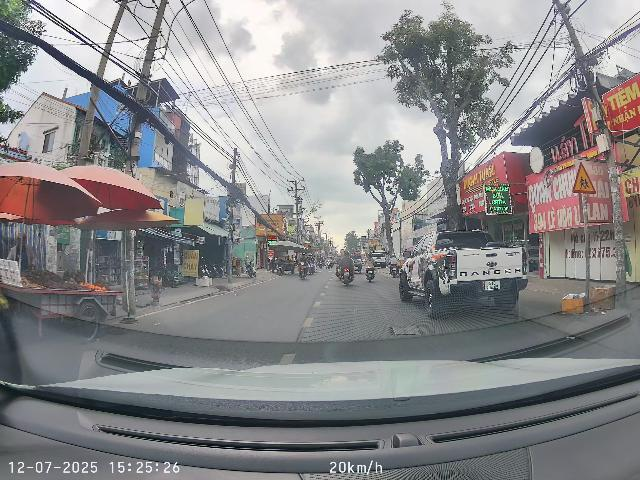225-chu-y-tre-em: (572, 162, 597, 194)
